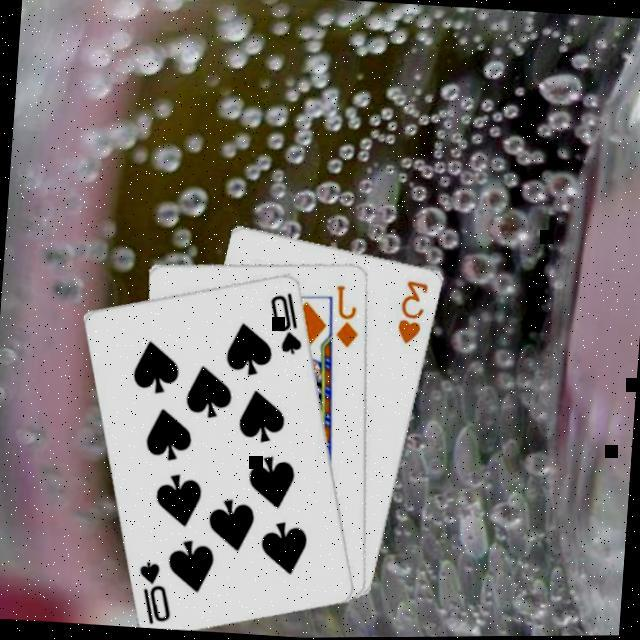10S: (134, 557, 179, 629), (266, 288, 311, 359)
3H: (395, 277, 434, 349)
JD: (330, 282, 367, 352)
